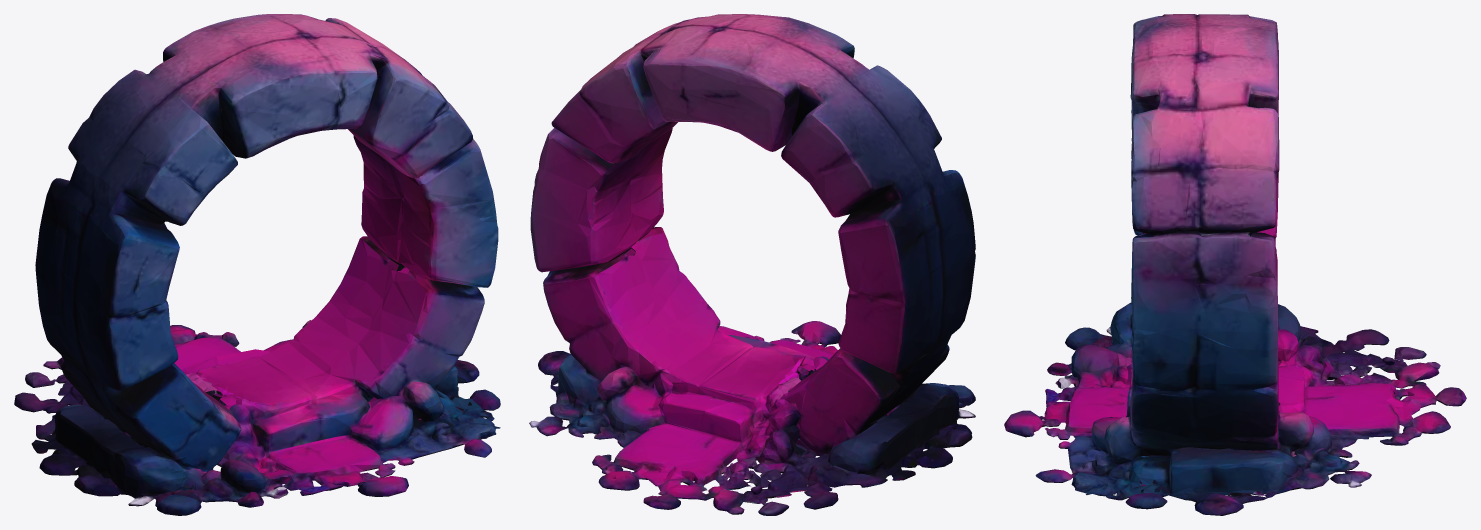
Rendered from solitude-ring-fragment-west.collider.glb.
The picture shows the model from 3 angles, left to right: view 1: azimuth 30°, elevation 25°; view 2: azimuth 150°, elevation 25°; view 3: azimuth 270°, elevation 25°; orthographic projection. The views are drawn at different scales.
Visible parts, largest first — view 1: temp_mesh.ply; view 2: temp_mesh.ply; view 3: temp_mesh.ply.
Part boxes in pixels (box(x1,y1,x2,y2)): temp_mesh.ply: box(14, 14, 500, 515); temp_mesh.ply: box(529, 14, 975, 515); temp_mesh.ply: box(1004, 14, 1466, 515).
Bounding box in the file's own units: 1.97 × 1.71 × 1.88.
1 material, 1 textured.
